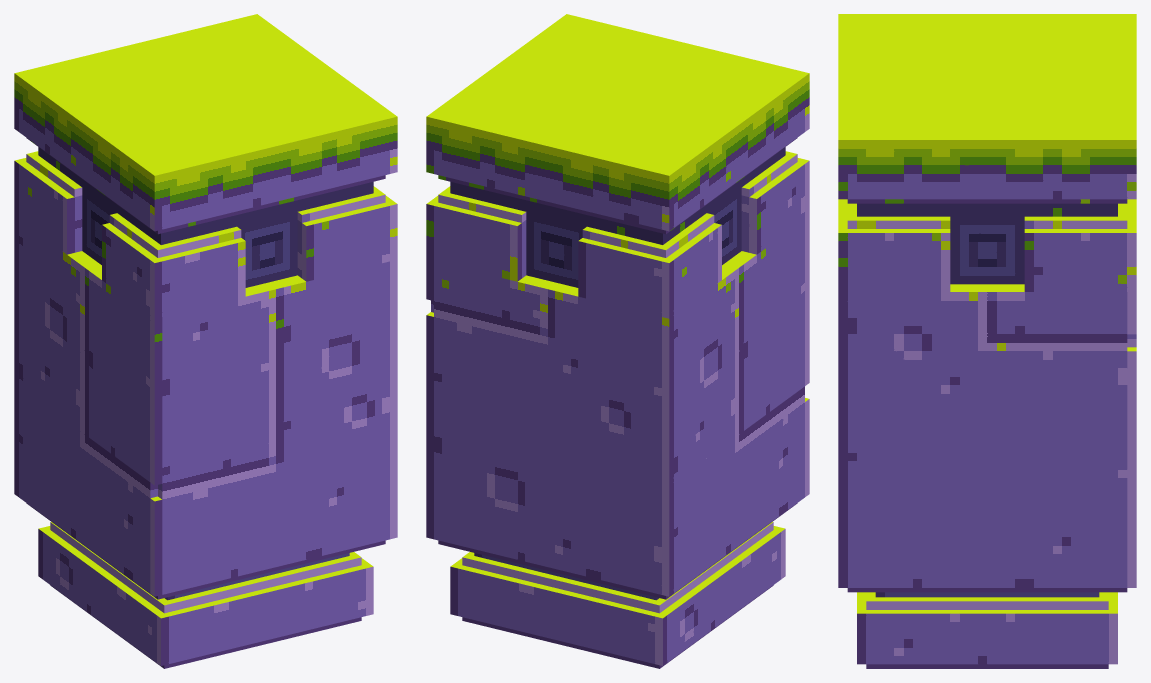
Rendered from exit_pillarao.fezao.glb.
3 views of the same model, side by side, from view 1: azimuth 30°, elevation 25°; view 2: azimuth 150°, elevation 25°; view 3: azimuth 270°, elevation 25° (orthographic). The views are drawn at different scales.
Visible parts, largest first — view 1: EXIT_PILLARAO; view 2: EXIT_PILLARAO; view 3: EXIT_PILLARAO.
Boxes of the visible parts, x1,y1,x2,y2 form: EXIT_PILLARAO: (14,14,397,668); EXIT_PILLARAO: (426,14,809,668); EXIT_PILLARAO: (838,14,1136,668).
Size of the model in its own units: 2 by 4 by 2.
1 material, 1 textured.
